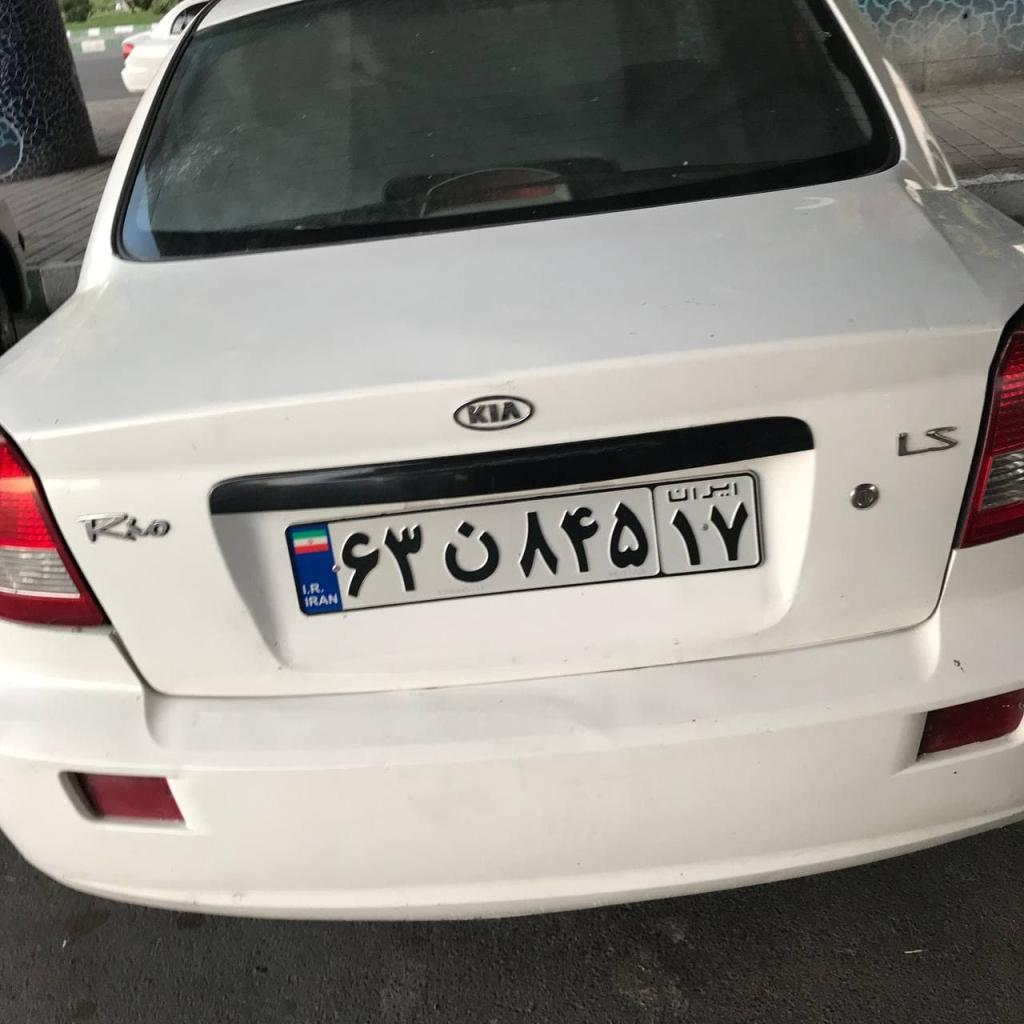Plates: (287, 475, 760, 617)
